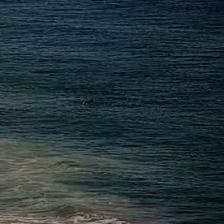surfer: (84, 100, 92, 104)
